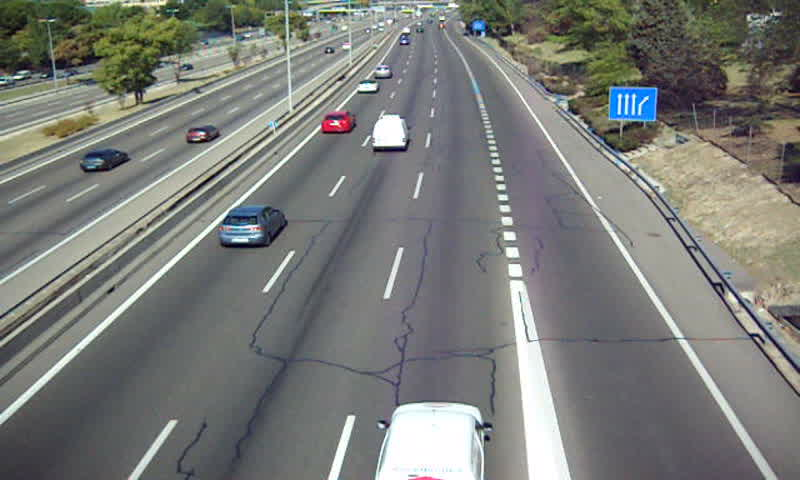car: (219, 205, 285, 246), (322, 111, 356, 135), (356, 80, 378, 93), (374, 64, 391, 79)
van: (375, 403, 484, 480), (371, 115, 410, 150)
